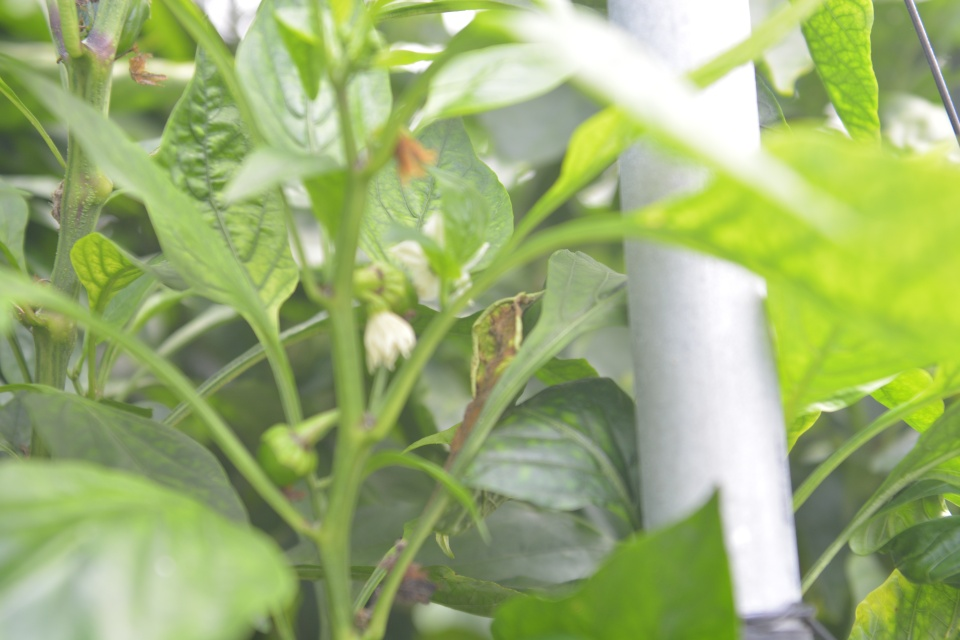flower: (384, 208, 492, 303), (359, 309, 419, 377)
immature: (255, 420, 321, 490), (359, 261, 425, 323)
